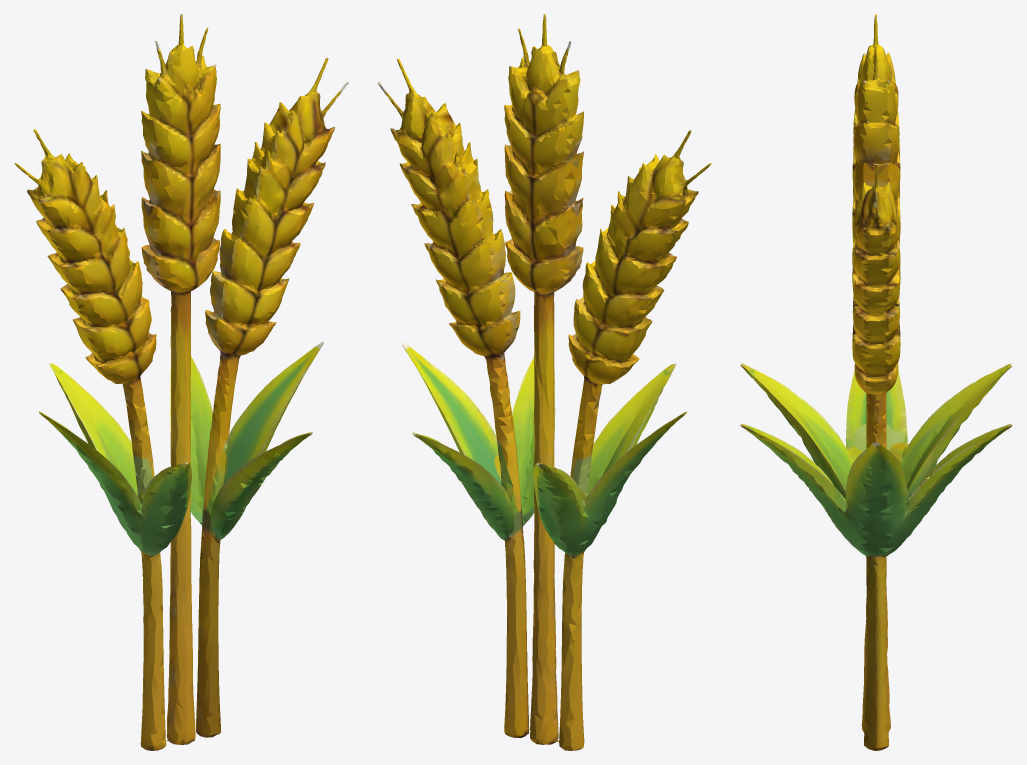
File: crop_wheat.glb
3 views of the same model, side by side, from view 1: azimuth 30°, elevation 25°; view 2: azimuth 150°, elevation 25°; view 3: azimuth 270°, elevation 25° (orthographic).
Visible parts, largest first — view 1: crop_wheat; view 2: crop_wheat; view 3: crop_wheat.
Part boxes in pixels (box(x1,y1,x2,y2)): crop_wheat: box(15, 14, 348, 750); crop_wheat: box(377, 14, 711, 750); crop_wheat: box(740, 14, 1012, 750).
Bounding box in the file's own units: 0.4802 × 1 × 0.3429.
Materials: 1 (1 with a texture image).
